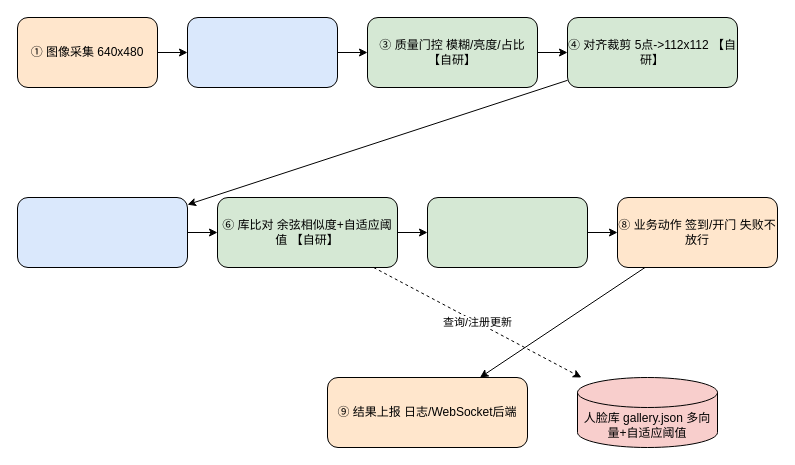
Some shapes in this 795 by 465 pixel diagram are drawn without their labels. The shapes that lost their labels are listed below. From the top down, each one's centre as x and y in pixels, then its label:
pixel 262 52: ② 人脸检测 YuNet 【库】
pixel 102 232: ⑤ 特征提取 MobileFaceNet->512维 【库】
pixel 507 232: ⑦ 阈值判断+多帧投票 【自研】
